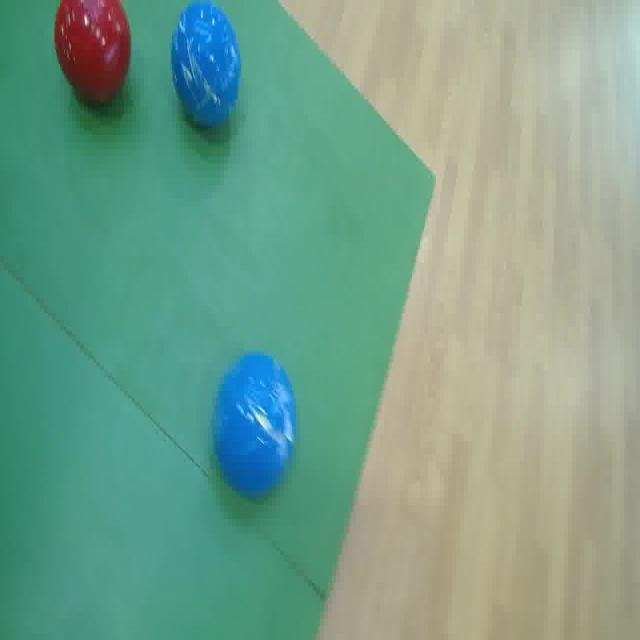blue_ball: (210, 346, 300, 499), (168, 1, 244, 140)
red_ball: (54, 0, 131, 107)
